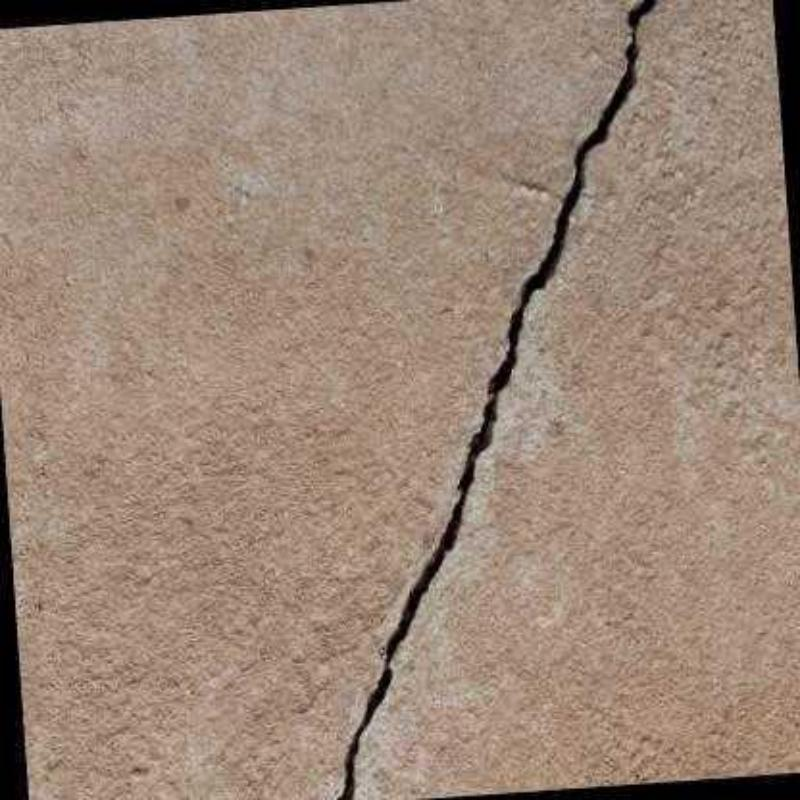pothole: (331, 0, 656, 800)
